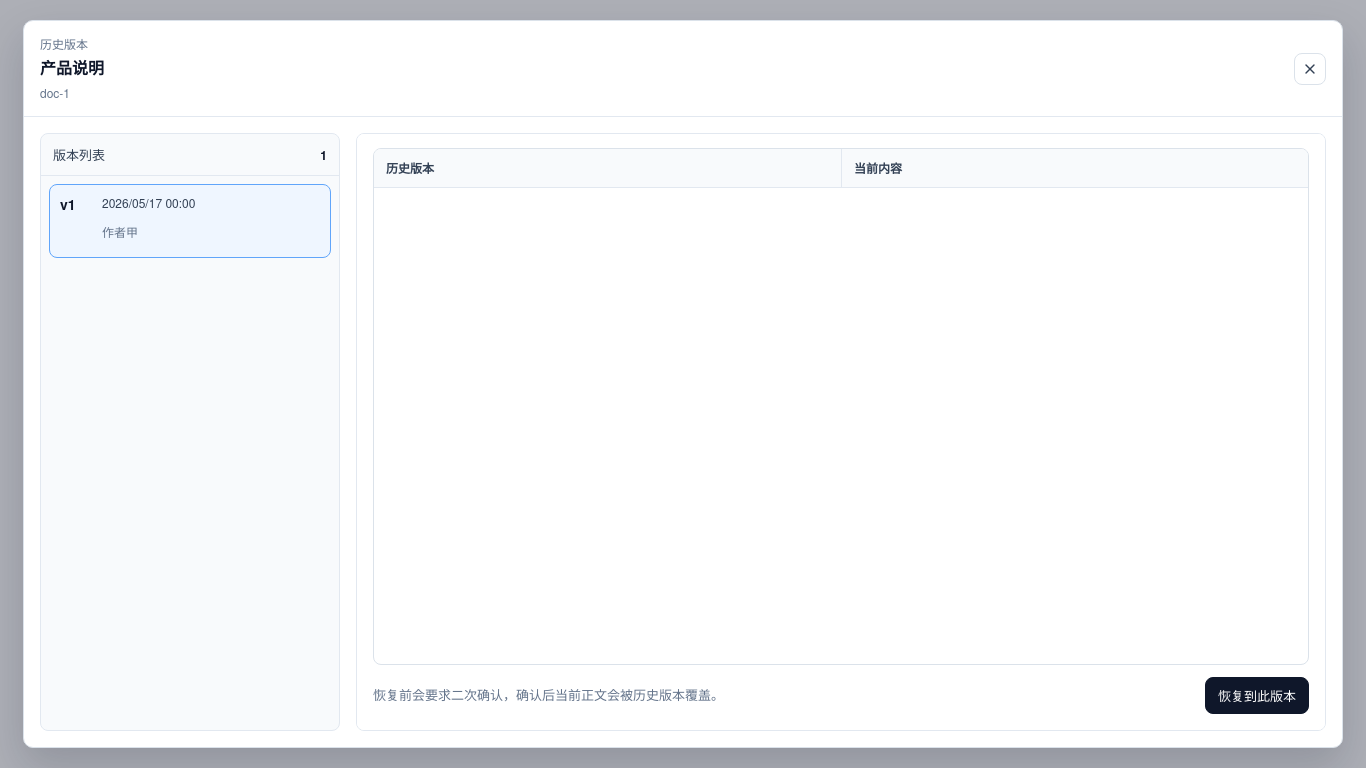
Test: DocumentRevisionHistoryDialog › keeps the dialog open and explains revision conflict failures
The width and height of the screenshot is (1366, 768).
(page scrolled)
expect the element named "Markdown 差异视图" is shown: met, box 373,148 -> 1309,665
Click the button "恢复到此版本" at (1257, 695), box 1205,677 -> 1309,714
(page scrolled)
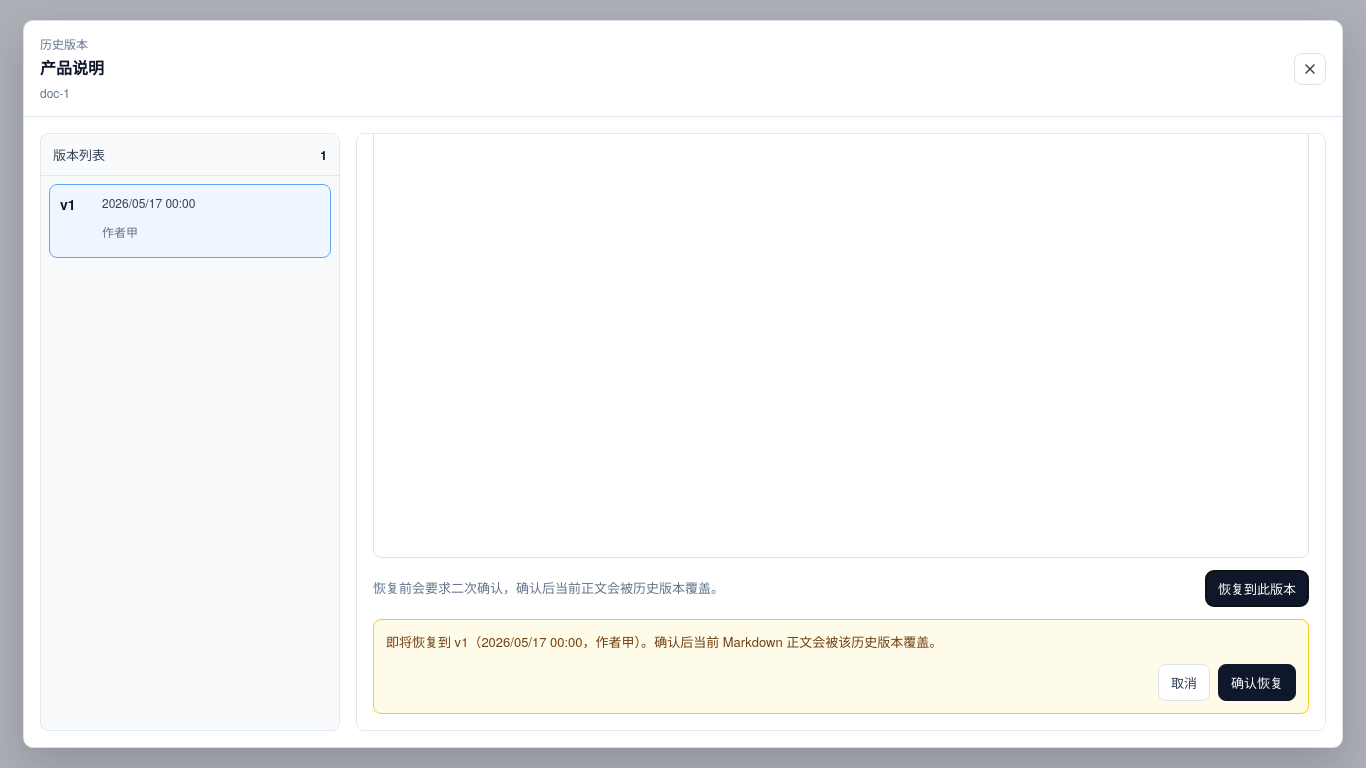
Click the button "确认恢复" at (1257, 683), box 1218,664 -> 1296,702
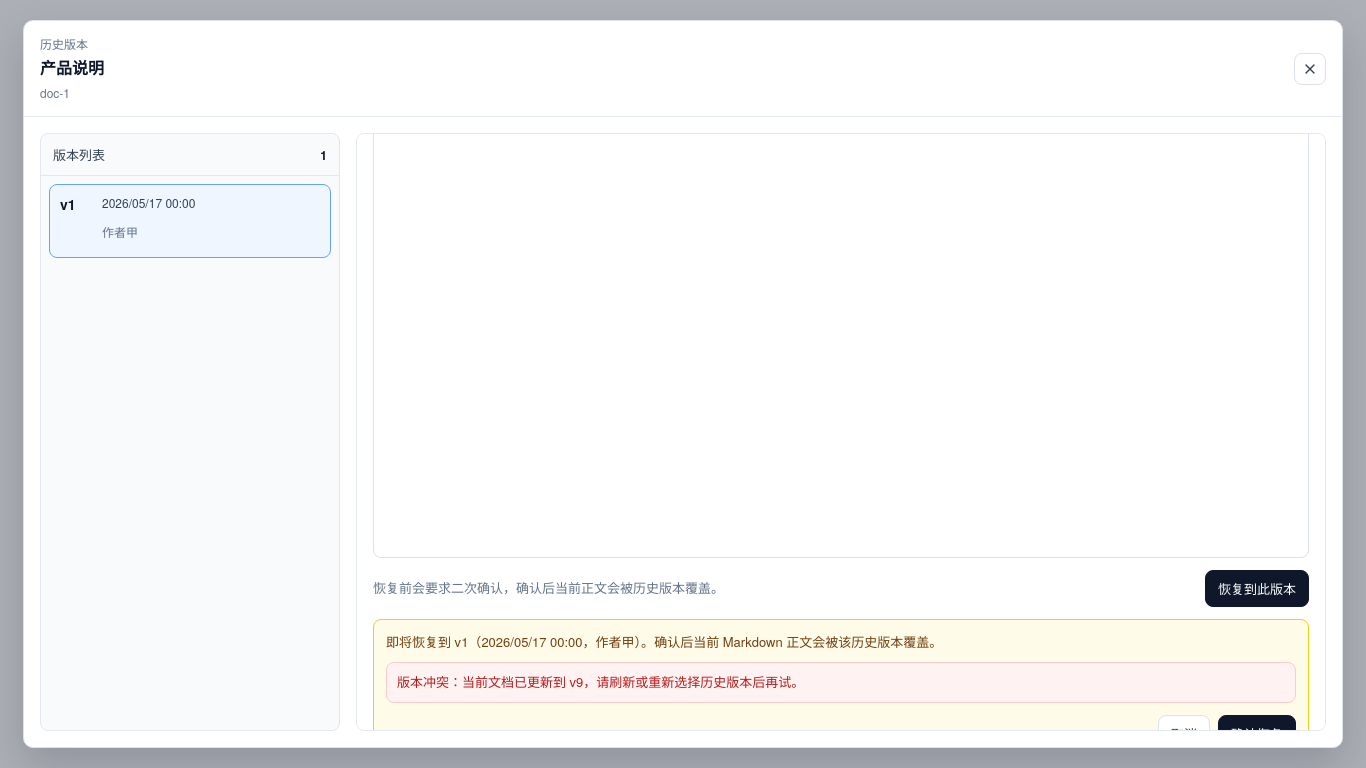
expect the text "版本冲突：当前文档已更新到 v9，请刷新或重新选择历史版本后再试。" is shown: met, box 386,662 -> 1296,703
